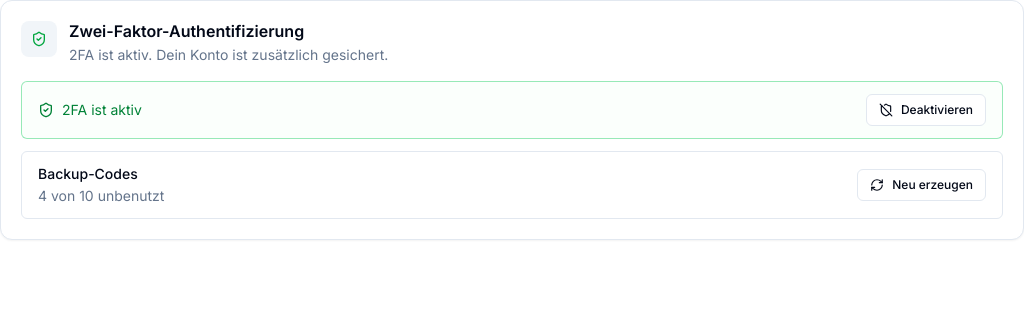
Test case: TOTPSection — active state › shows a deactivate error when the API call fails
What coordinates should you click on to do the following:
click the button "Deaktivieren"
I would click on:
 (926, 110)
Its box is [866,94,986,126].
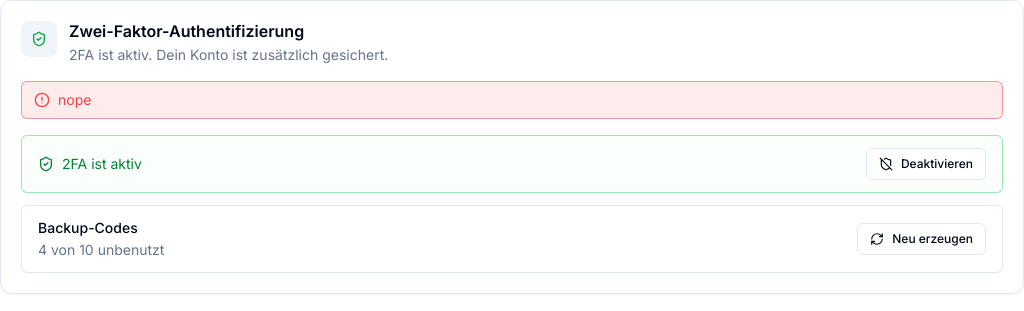
Check: the text "nope" is shown, box [21,81,1003,119]
